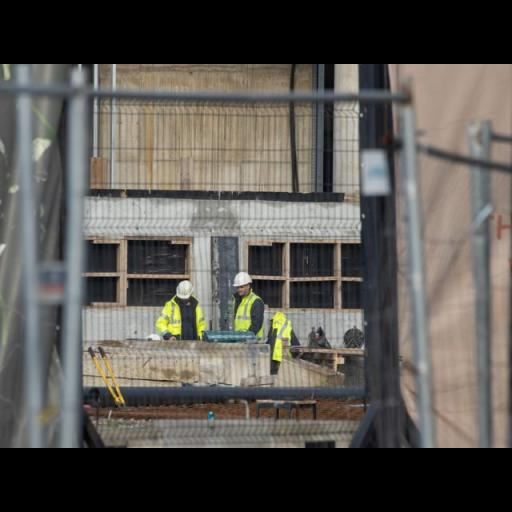Person: (152, 260, 214, 353), (225, 254, 274, 351), (258, 302, 308, 376)
helmet: (173, 269, 198, 306), (230, 266, 256, 292)
vest: (153, 296, 211, 346), (266, 311, 297, 377), (232, 283, 266, 335)
